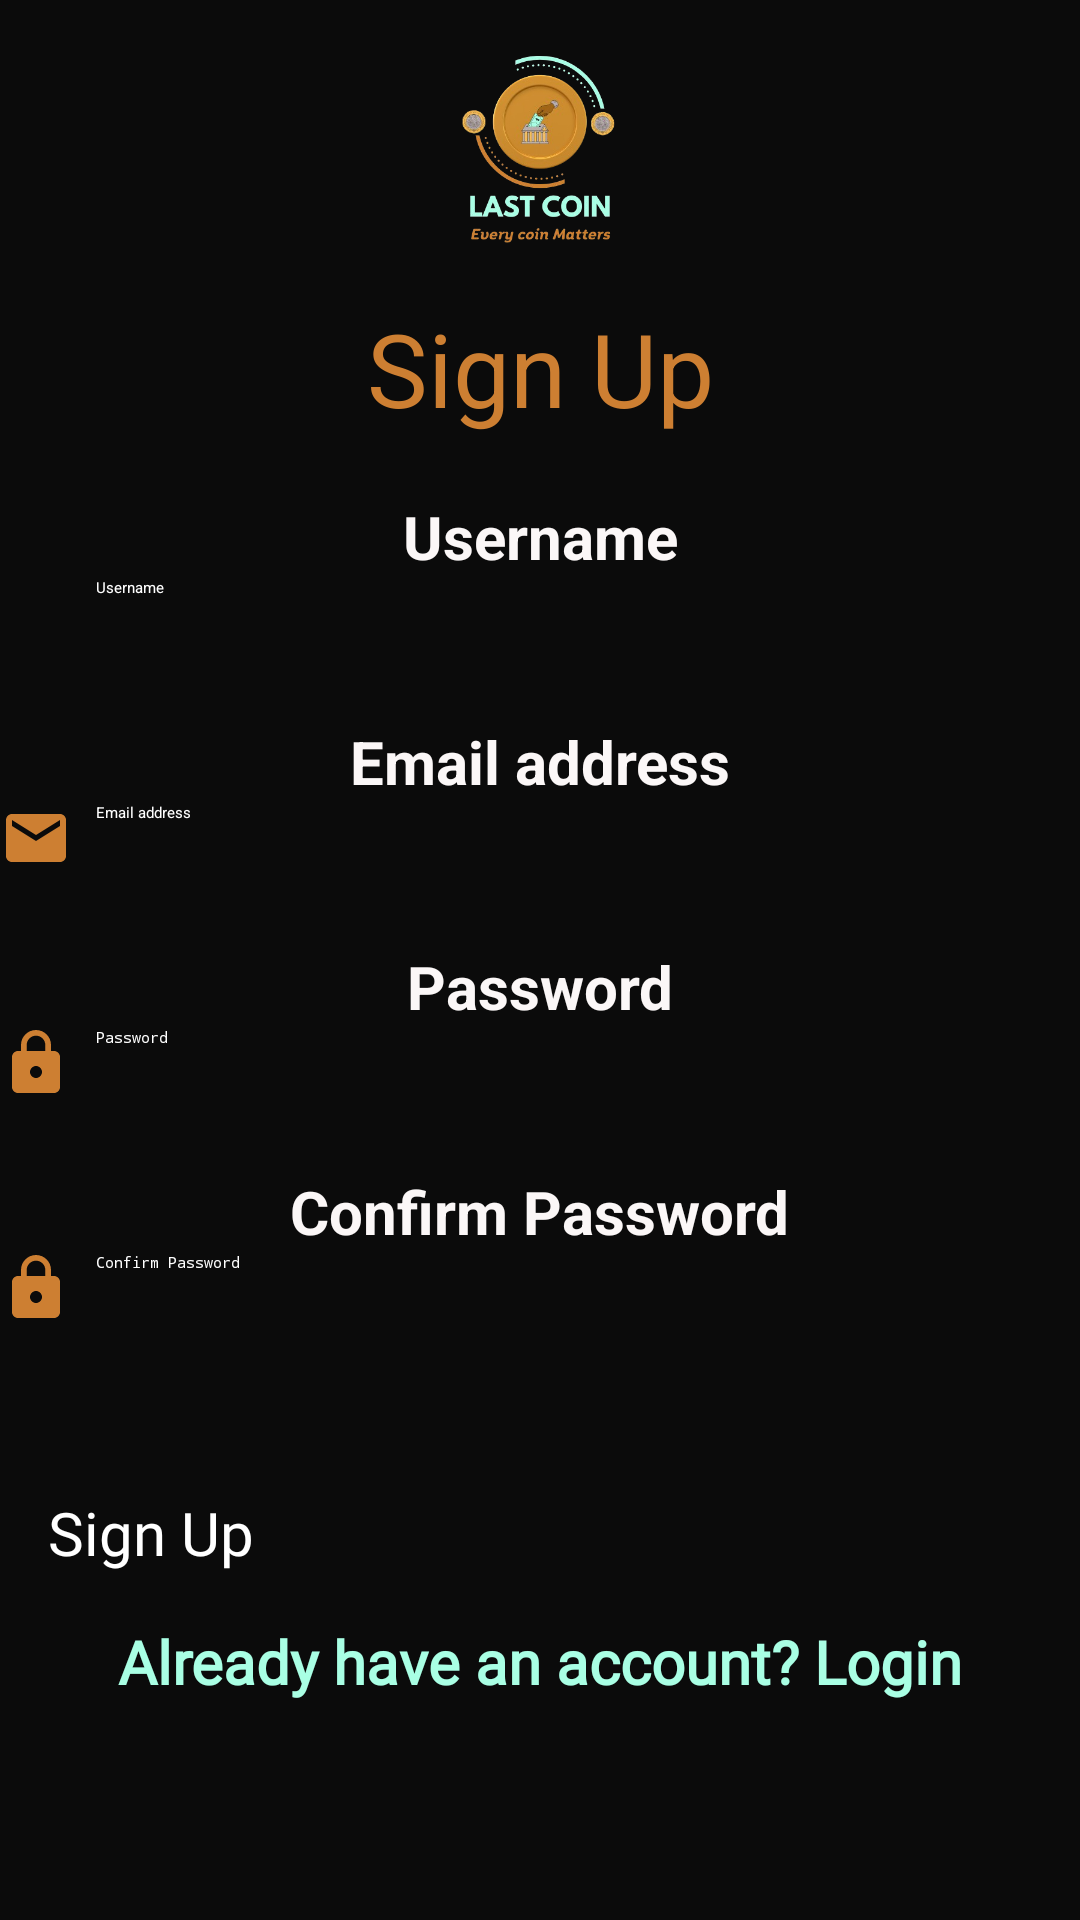

Locate icon controls on the screen. Image size 1080×1920, boxes as [x1,y1,x2,y2].
lock: [12,1030,60,1093], [12,1255,60,1318]
